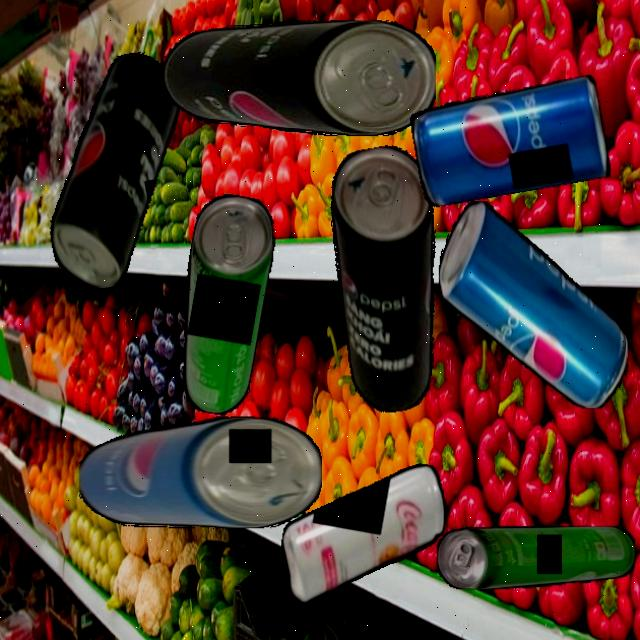debris: (22, 47, 210, 296), (314, 140, 466, 418), (438, 200, 628, 409), (272, 443, 454, 625), (163, 20, 436, 136), (408, 75, 612, 208), (78, 417, 322, 528), (164, 190, 282, 419), (437, 525, 635, 589)
